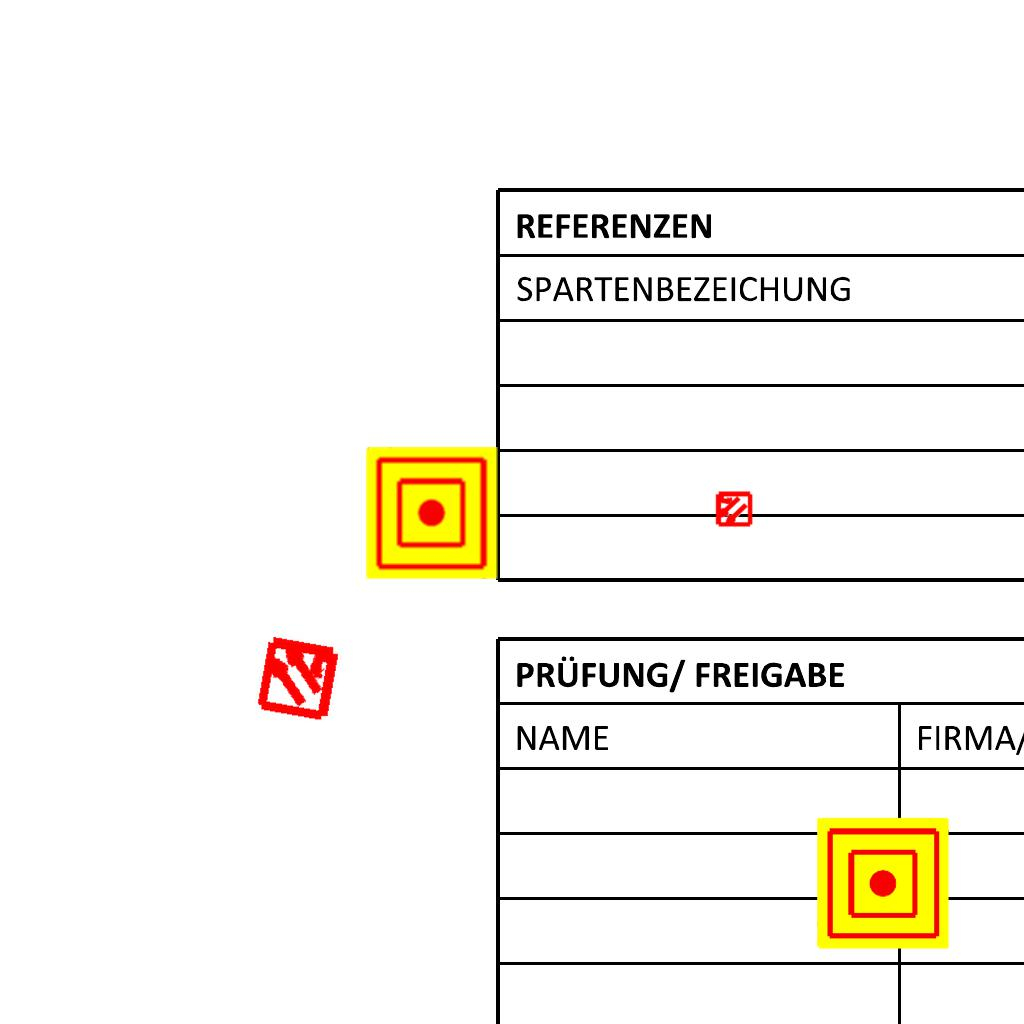NAM-Nichtautomatischer_Melder: (366, 447, 498, 579), (817, 817, 949, 949)
OT_Multisensormelder_(Kombination_RMO_WMD): (233, 611, 364, 742), (705, 481, 761, 537)
